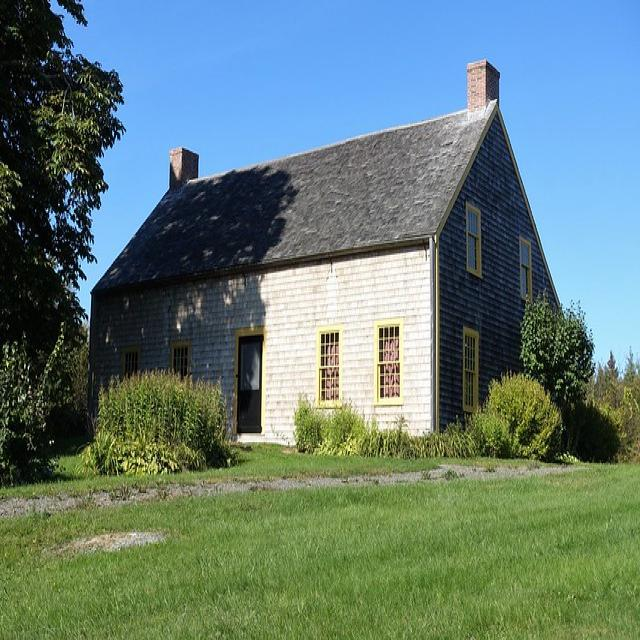Normal_building: (78, 56, 574, 464)
